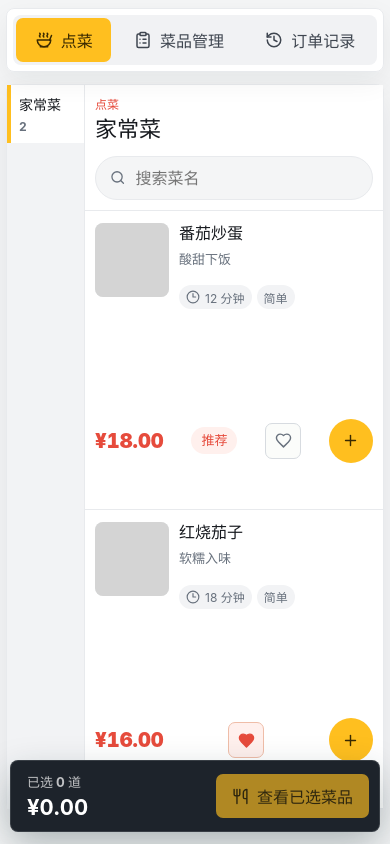
Test case: App › opens the mobile selected dishes drawer
Expected: the text "番茄炒蛋" is shown, [179,222,243,242]
Click the button named "加入餐单 番茄炒蛋".
click(351, 441)  # box [329,419,373,463]
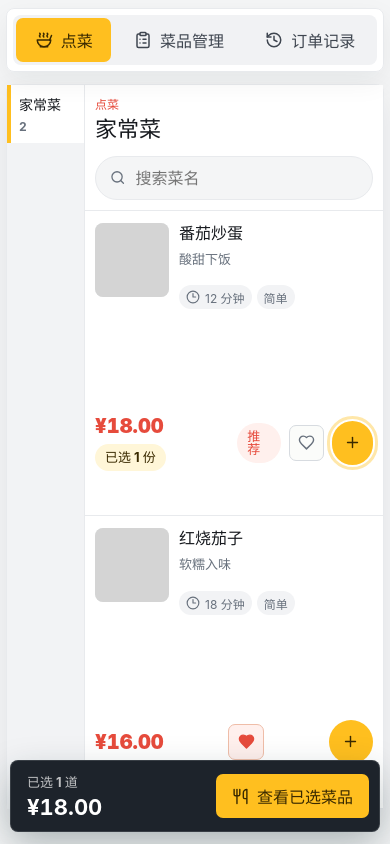
Result: the text "已选 1 道" is shown at [27,774,78,790]
Result: the 2nd text "¥18.00" is shown at [27,794,102,820]
Click the button "查看已选菜品".
click(292, 796)  # box [216,774,369,818]
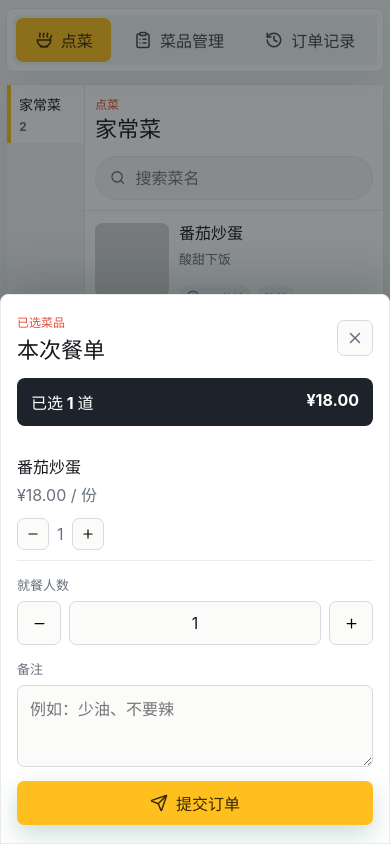
Result: the text "番茄炒蛋" is shown at [17,457,81,477]
Result: the button "提交订单" is shown at [17,781,373,825]
